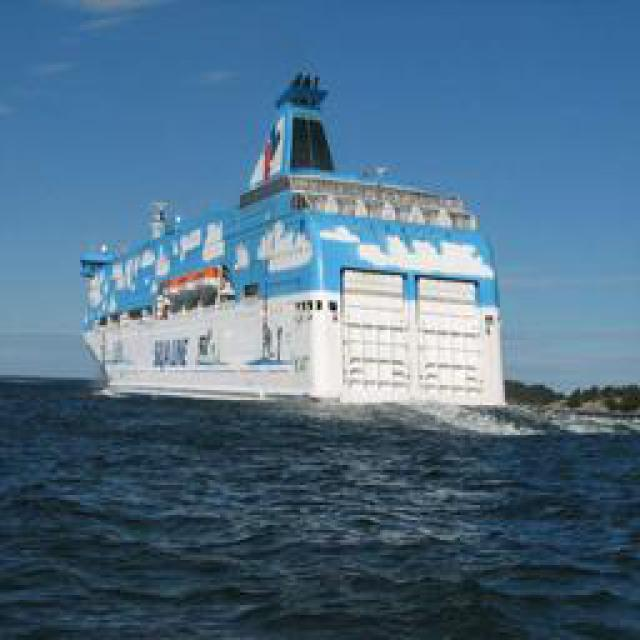Ship: (70, 60, 533, 423)
